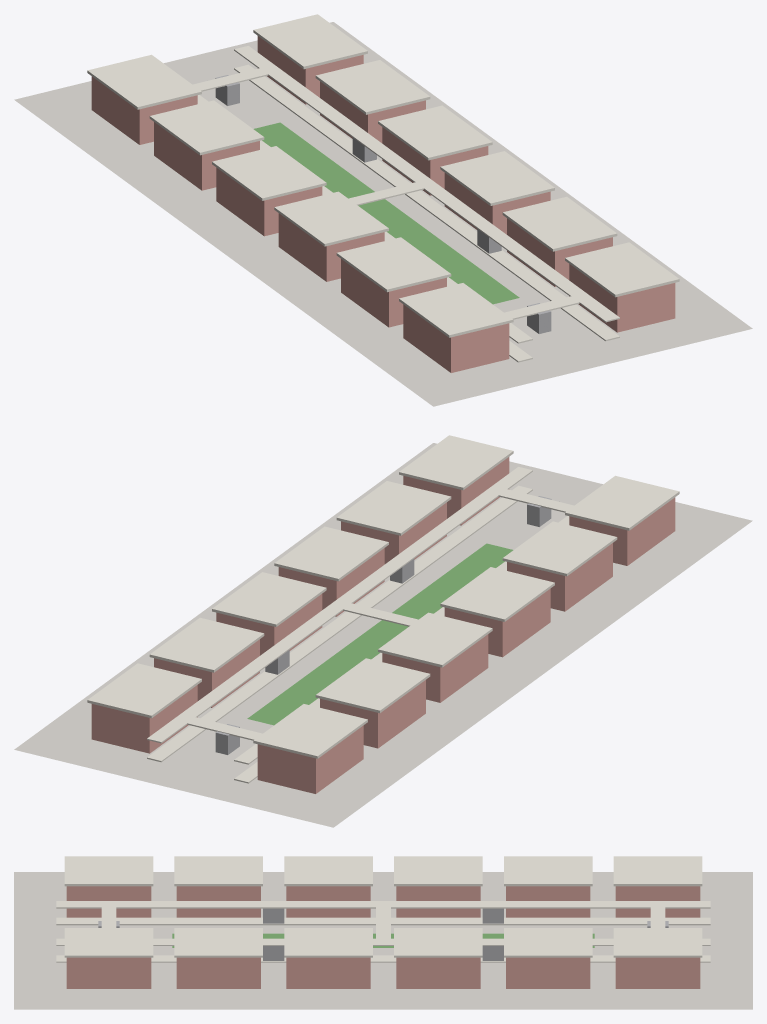
Rendered from college_campus.glb.
3 renders of one model, top to bottom at view 1: azimuth 30°, elevation 25°; view 2: azimuth 150°, elevation 25°; view 3: azimuth 270°, elevation 25°, orthographic. The views are drawn at different scales.
Parts seen in each view (by area): view 1: Campus_Ground, Central_Courtyard_Garden, Corridor_Bridge_Floor1_East, Corridor_Ground_East, Building_1, Roof_Building_2, Roof_Building_11, Roof_Building_7, Roof_Building_5, Roof_Building_10, Roof_Building_6, Roof_Building_9 (+19 smaller); view 2: Campus_Ground, Central_Courtyard_Garden, Corridor_Bridge_Floor1_East, Corridor_Ground_East, Building_6, Roof_Building_5, Roof_Building_8, Roof_Building_12, Roof_Building_2, Roof_Building_9, Roof_Building_1, Roof_Building_10 (+19 smaller); view 3: Campus_Ground, Corridor_Ground_West, Corridor_Bridge_Floor1_West, Roof_Building_1, Roof_Building_6, Roof_Building_2, Roof_Building_3, Roof_Building_4, Roof_Building_5, Building_7, Building_12, Building_9 (+25 smaller).
Part boxes in pixels (x1=…): Campus_Ground: x1=14, y1=22, x2=752, y2=406; Central_Courtyard_Garden: x1=253, y1=122, x2=519, y2=304; Corridor_Bridge_Floor1_East: x1=234, y1=46, x2=619, y2=322; Corridor_Ground_East: x1=234, y1=64, x2=619, y2=341; Building_1: x1=403, y1=304, x2=509, y2=372; Roof_Building_2: x1=336, y1=237, x2=451, y2=292; Roof_Building_11: x1=502, y1=196, x2=617, y2=251; Roof_Building_7: x1=253, y1=14, x2=367, y2=69; Roof_Building_5: x1=149, y1=100, x2=264, y2=155; Roof_Building_10: x1=440, y1=151, x2=554, y2=205; Roof_Building_6: x1=87, y1=54, x2=201, y2=109; Roof_Building_9: x1=378, y1=105, x2=492, y2=160; Campus_Ground: x1=14, y1=443, x2=752, y2=827; Central_Courtyard_Garden: x1=247, y1=543, x2=513, y2=725; Corridor_Bridge_Floor1_East: x1=147, y1=467, x2=532, y2=743; Corridor_Ground_East: x1=147, y1=485, x2=532, y2=762; Building_6: x1=257, y1=725, x2=363, y2=793; Roof_Building_5: x1=315, y1=658, x2=430, y2=713; Roof_Building_8: x1=149, y1=617, x2=264, y2=672; Roof_Building_12: x1=399, y1=435, x2=513, y2=490; Roof_Building_2: x1=502, y1=521, x2=617, y2=576; Roof_Building_9: x1=212, y1=572, x2=326, y2=626; Roof_Building_1: x1=565, y1=475, x2=679, y2=530; Roof_Building_10: x1=274, y1=526, x2=388, y2=581; Campus_Ground: x1=14, y1=872, x2=752, y2=1009; Corridor_Ground_West: x1=56, y1=917, x2=710, y2=925; Corridor_Bridge_Floor1_West: x1=56, y1=901, x2=710, y2=908; Roof_Building_1: x1=64, y1=856, x2=153, y2=886; Roof_Building_6: x1=613, y1=856, x2=702, y2=886; Roof_Building_2: x1=174, y1=856, x2=262, y2=886; Roof_Building_3: x1=284, y1=856, x2=372, y2=886; Roof_Building_4: x1=394, y1=856, x2=482, y2=886; Roof_Building_5: x1=504, y1=856, x2=592, y2=886; Building_7: x1=615, y1=957, x2=700, y2=988; Building_12: x1=66, y1=957, x2=151, y2=988; Building_9: x1=396, y1=957, x2=480, y2=988.
Size of the model in its own units: 77 by 9.1 by 175.
